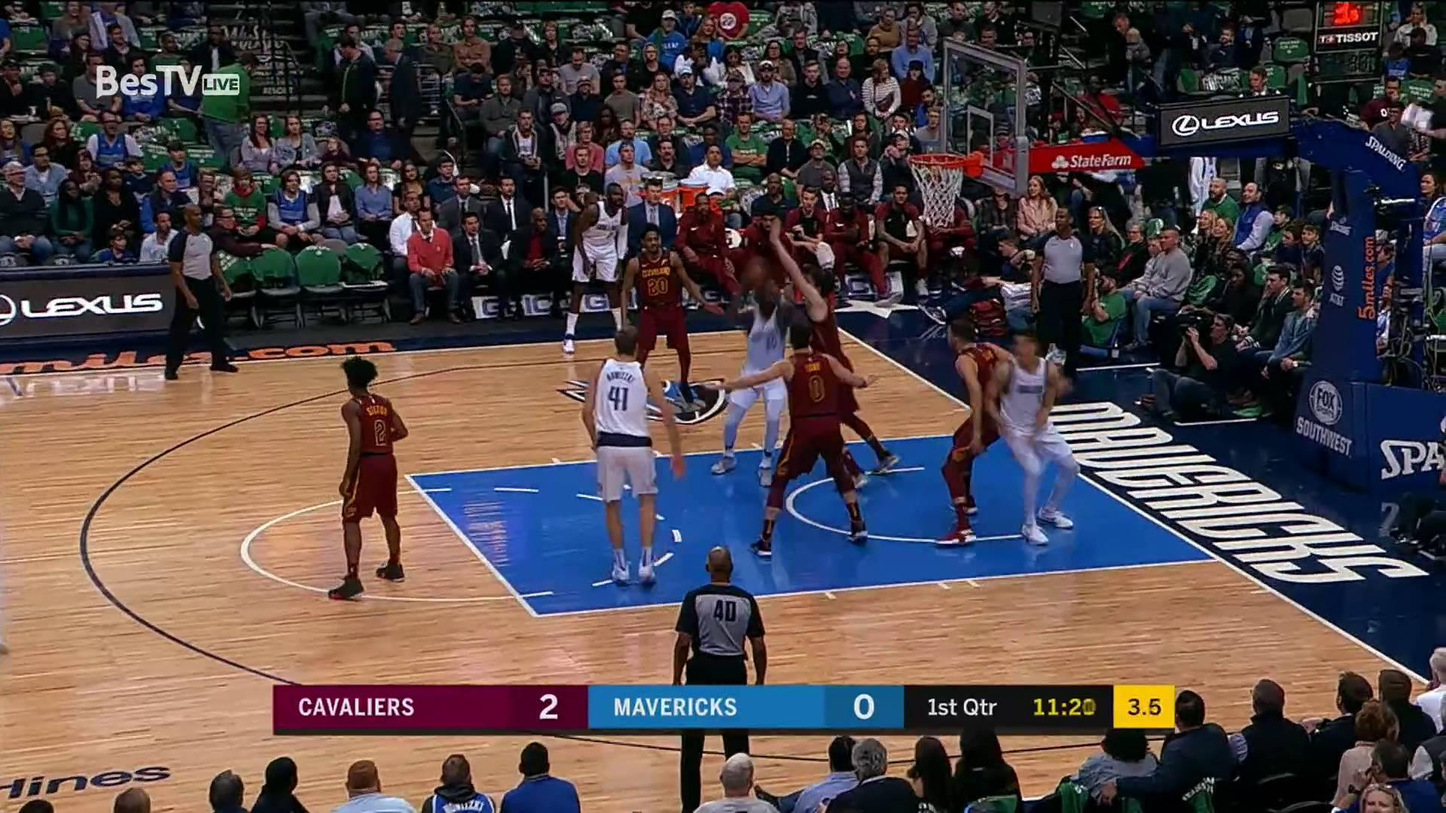basketball: (738, 258, 771, 290)
